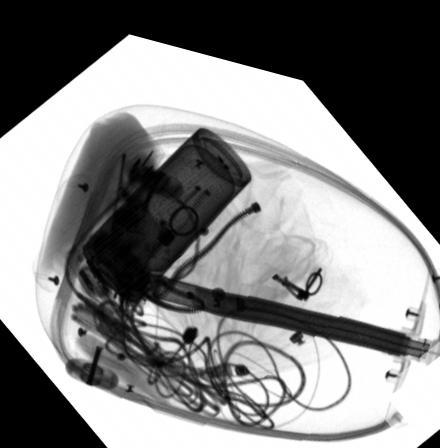Powerbank: (85, 177, 173, 295)
